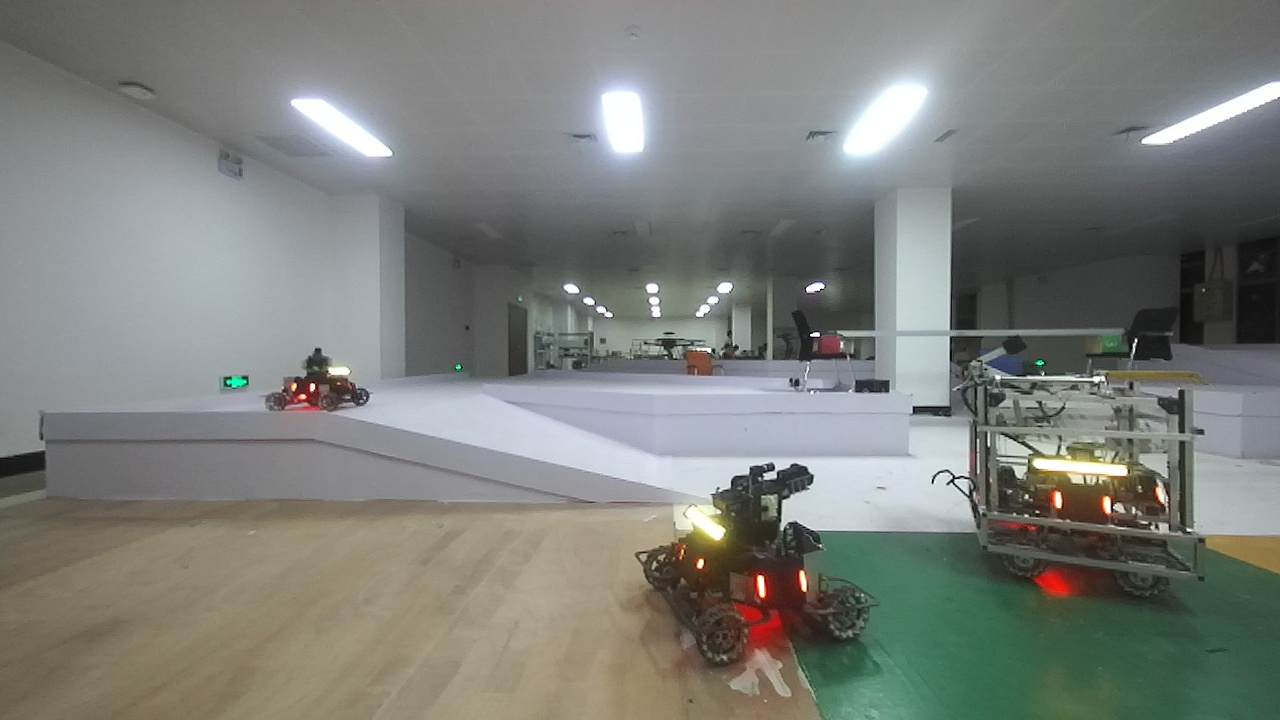car: (952, 345, 1217, 621), (636, 458, 882, 684), (256, 335, 388, 426)
